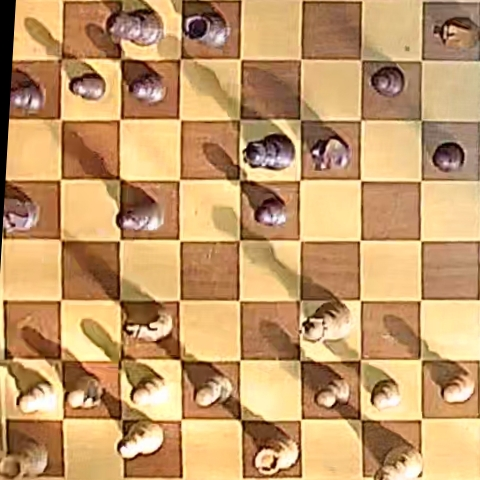black-bishop: (115, 201, 163, 230)
black-king: (108, 8, 162, 46)
black-knight: (311, 136, 351, 171), (5, 196, 40, 233)
black-pawn: (129, 72, 166, 104), (68, 71, 106, 101), (371, 66, 405, 97), (11, 82, 45, 113), (432, 142, 465, 172), (255, 197, 287, 227)
black-queen: (243, 135, 294, 170)
black-rook: (183, 10, 232, 48)
white-bishop: (118, 421, 163, 459)
white-king: (377, 445, 423, 480)
white-knight: (123, 302, 173, 342), (431, 16, 477, 49)
white-pawn: (18, 381, 57, 414), (67, 376, 104, 410), (439, 370, 474, 405), (196, 375, 233, 407), (315, 377, 352, 409), (130, 376, 167, 407), (371, 379, 402, 410)
white-queen: (303, 301, 352, 343)
white-rook: (1, 437, 48, 478), (256, 437, 299, 475)
